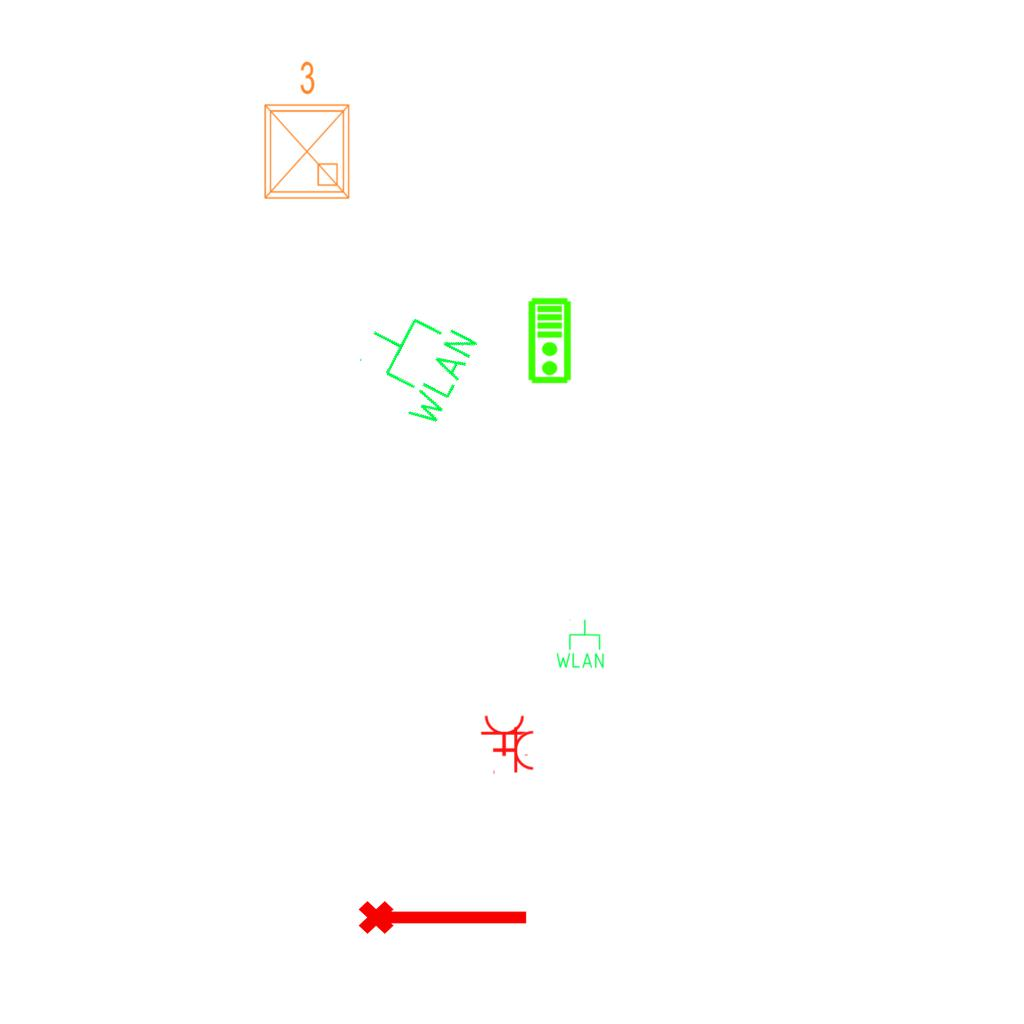ASR_Ansaugoeffnung: (356, 892, 532, 938)
Einbaudownlights_LED_Konferenzraeume: (253, 56, 357, 206)
Gegensprechanlage_mit_Video: (527, 297, 574, 385)
Schukosteckdose_einfach: (480, 714, 530, 757), (492, 726, 535, 776)
WLAN: (342, 293, 484, 434), (554, 618, 606, 670)
